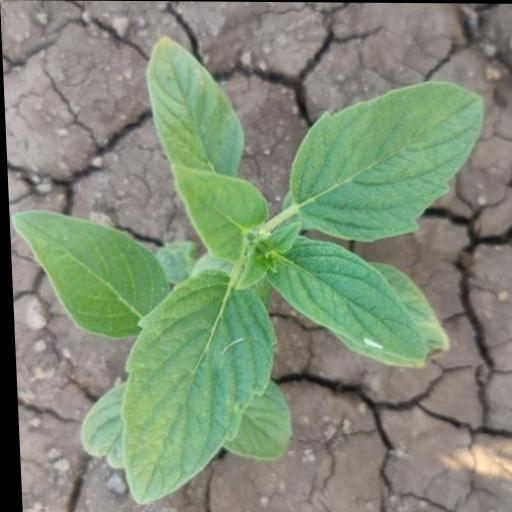crop: (4, 32, 499, 511)
